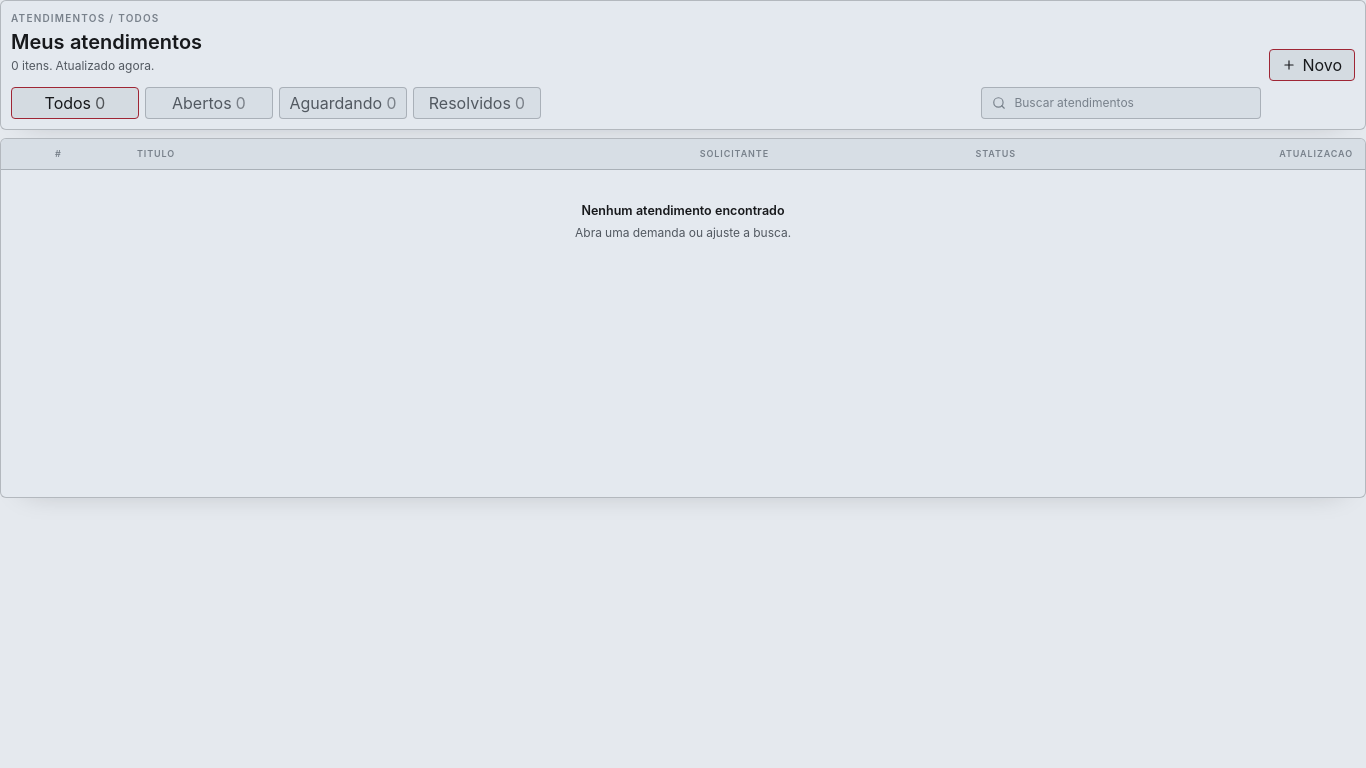
Test case: SupportPage › renders, validates and submits conditional dynamic fields
Click the button "Novo". click: (1312,65)
box: [1269,49,1355,81]
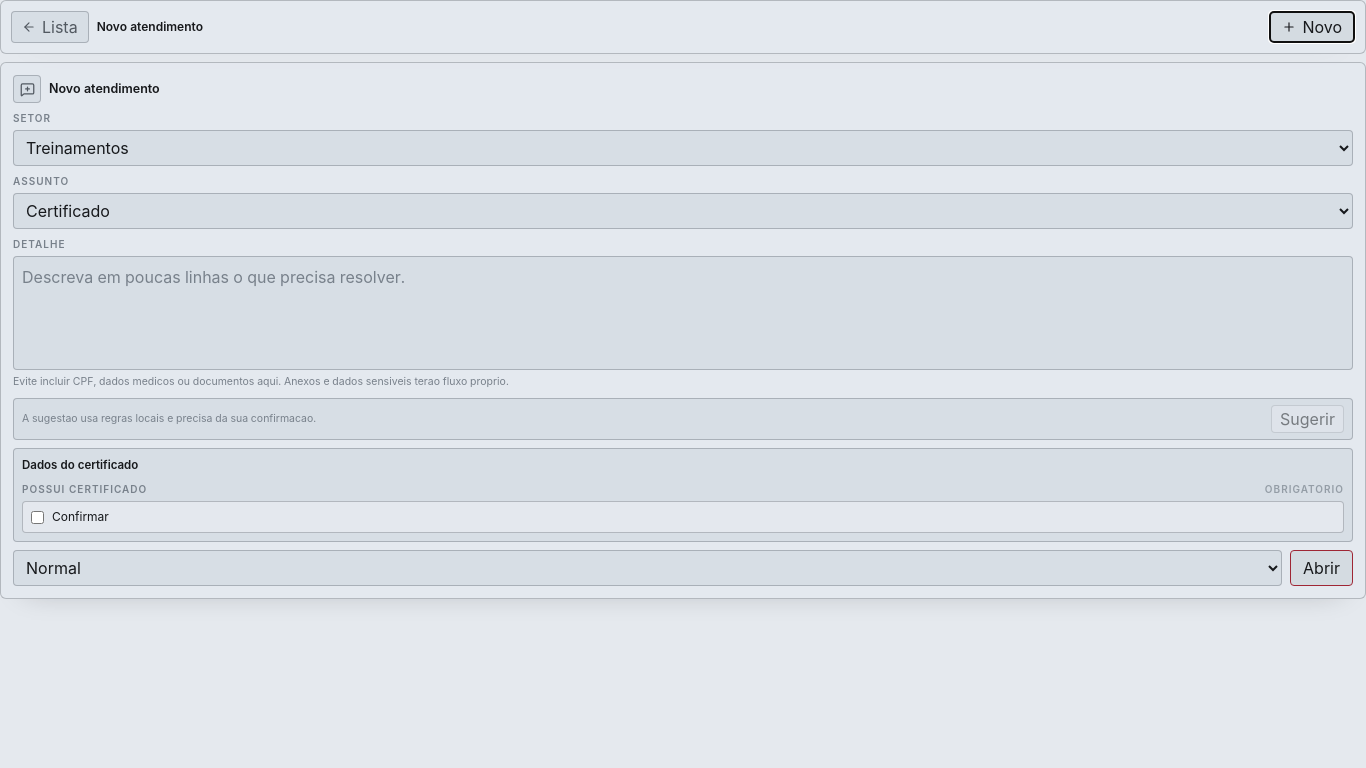
Expected: the text "Dados do certificado" is shown, [22,458,138,472]
Click the checkbox labelled "Possui certificado obrigatorio Confirmar". click: (38,517)
box: [31,511,44,524]
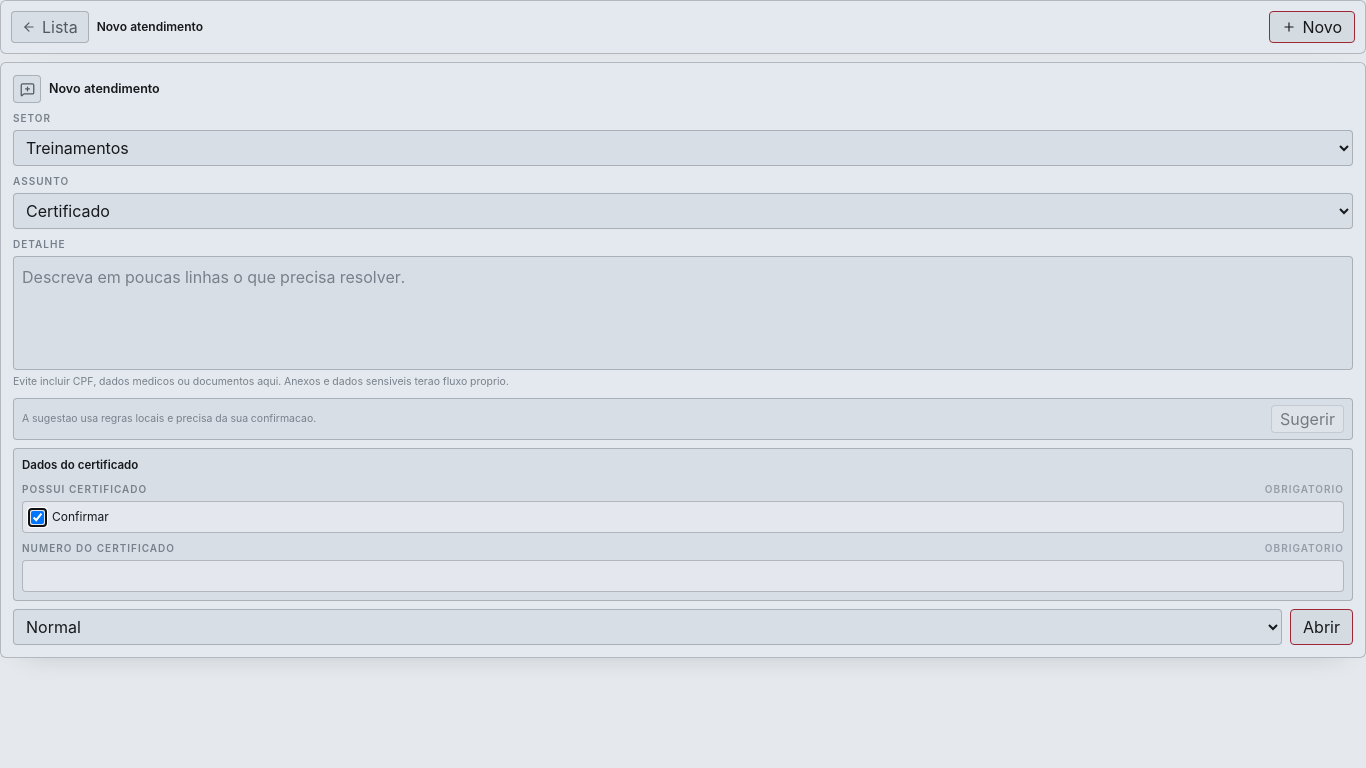
Expected: the field labelled "Numero do certificado obrigatorio" is shown, [22,560,1344,592]
Expected: the text "obrigatorio" in the row of "Numero do certificado" is shown, [1265,542,1344,554]
Click the button "Abrir". click: (1322,627)
box: [1290,609,1353,645]
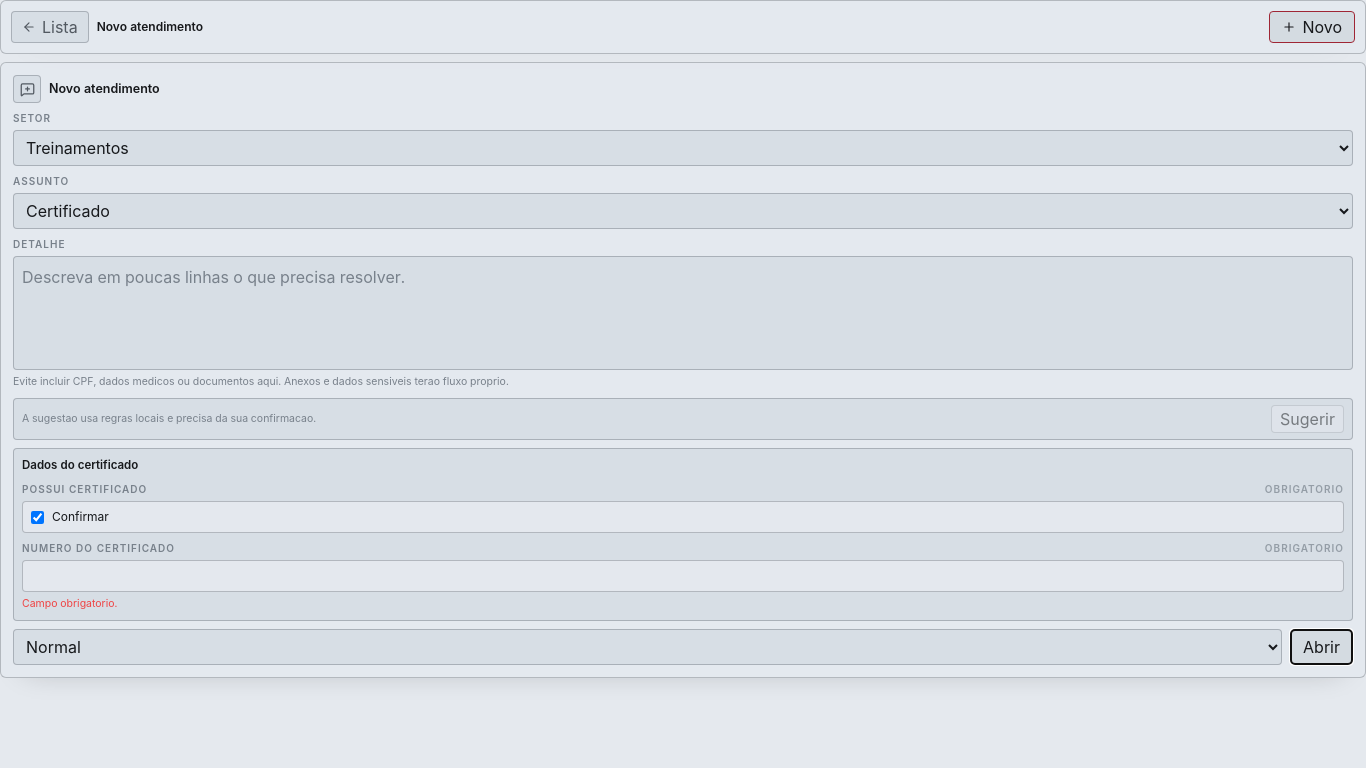
Type "CERT-123" into the field labelled "Numero do certificado obrigatorio Campo obrigatorio.". click: (683,576)
box: [22,560,1344,592]
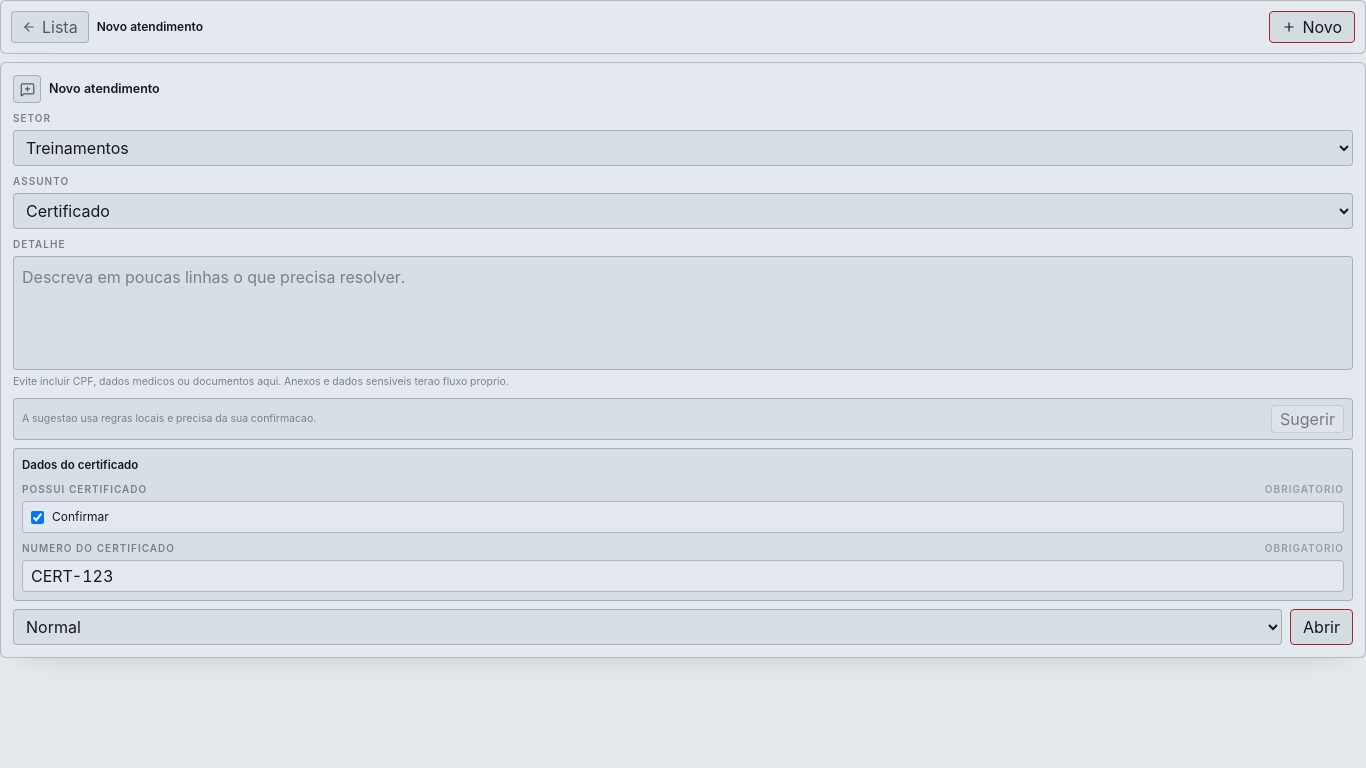
Click the button "Abrir". click: (1322,627)
box: [1290,609,1353,645]
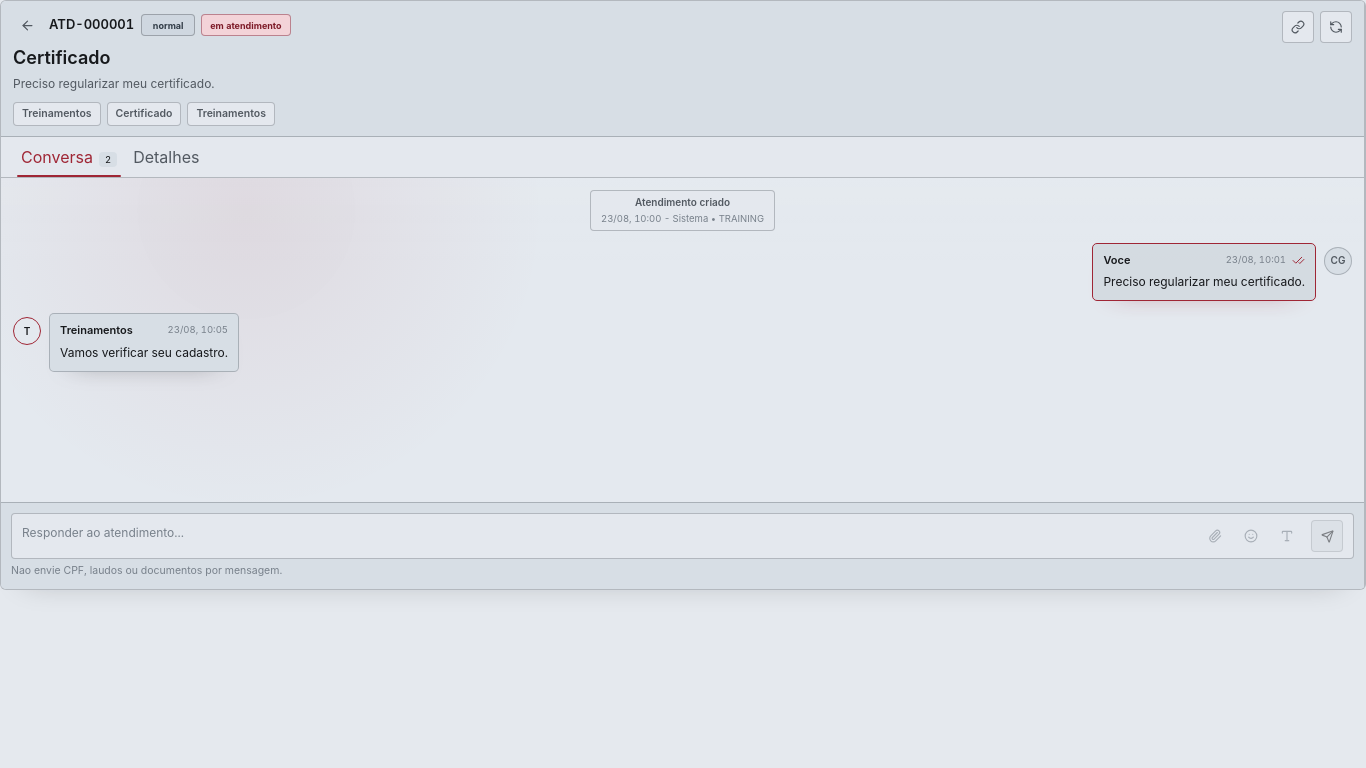
Expected: the text box named "Adicionar mensagem ao atendimento" is shown, [22,520,1191,552]
